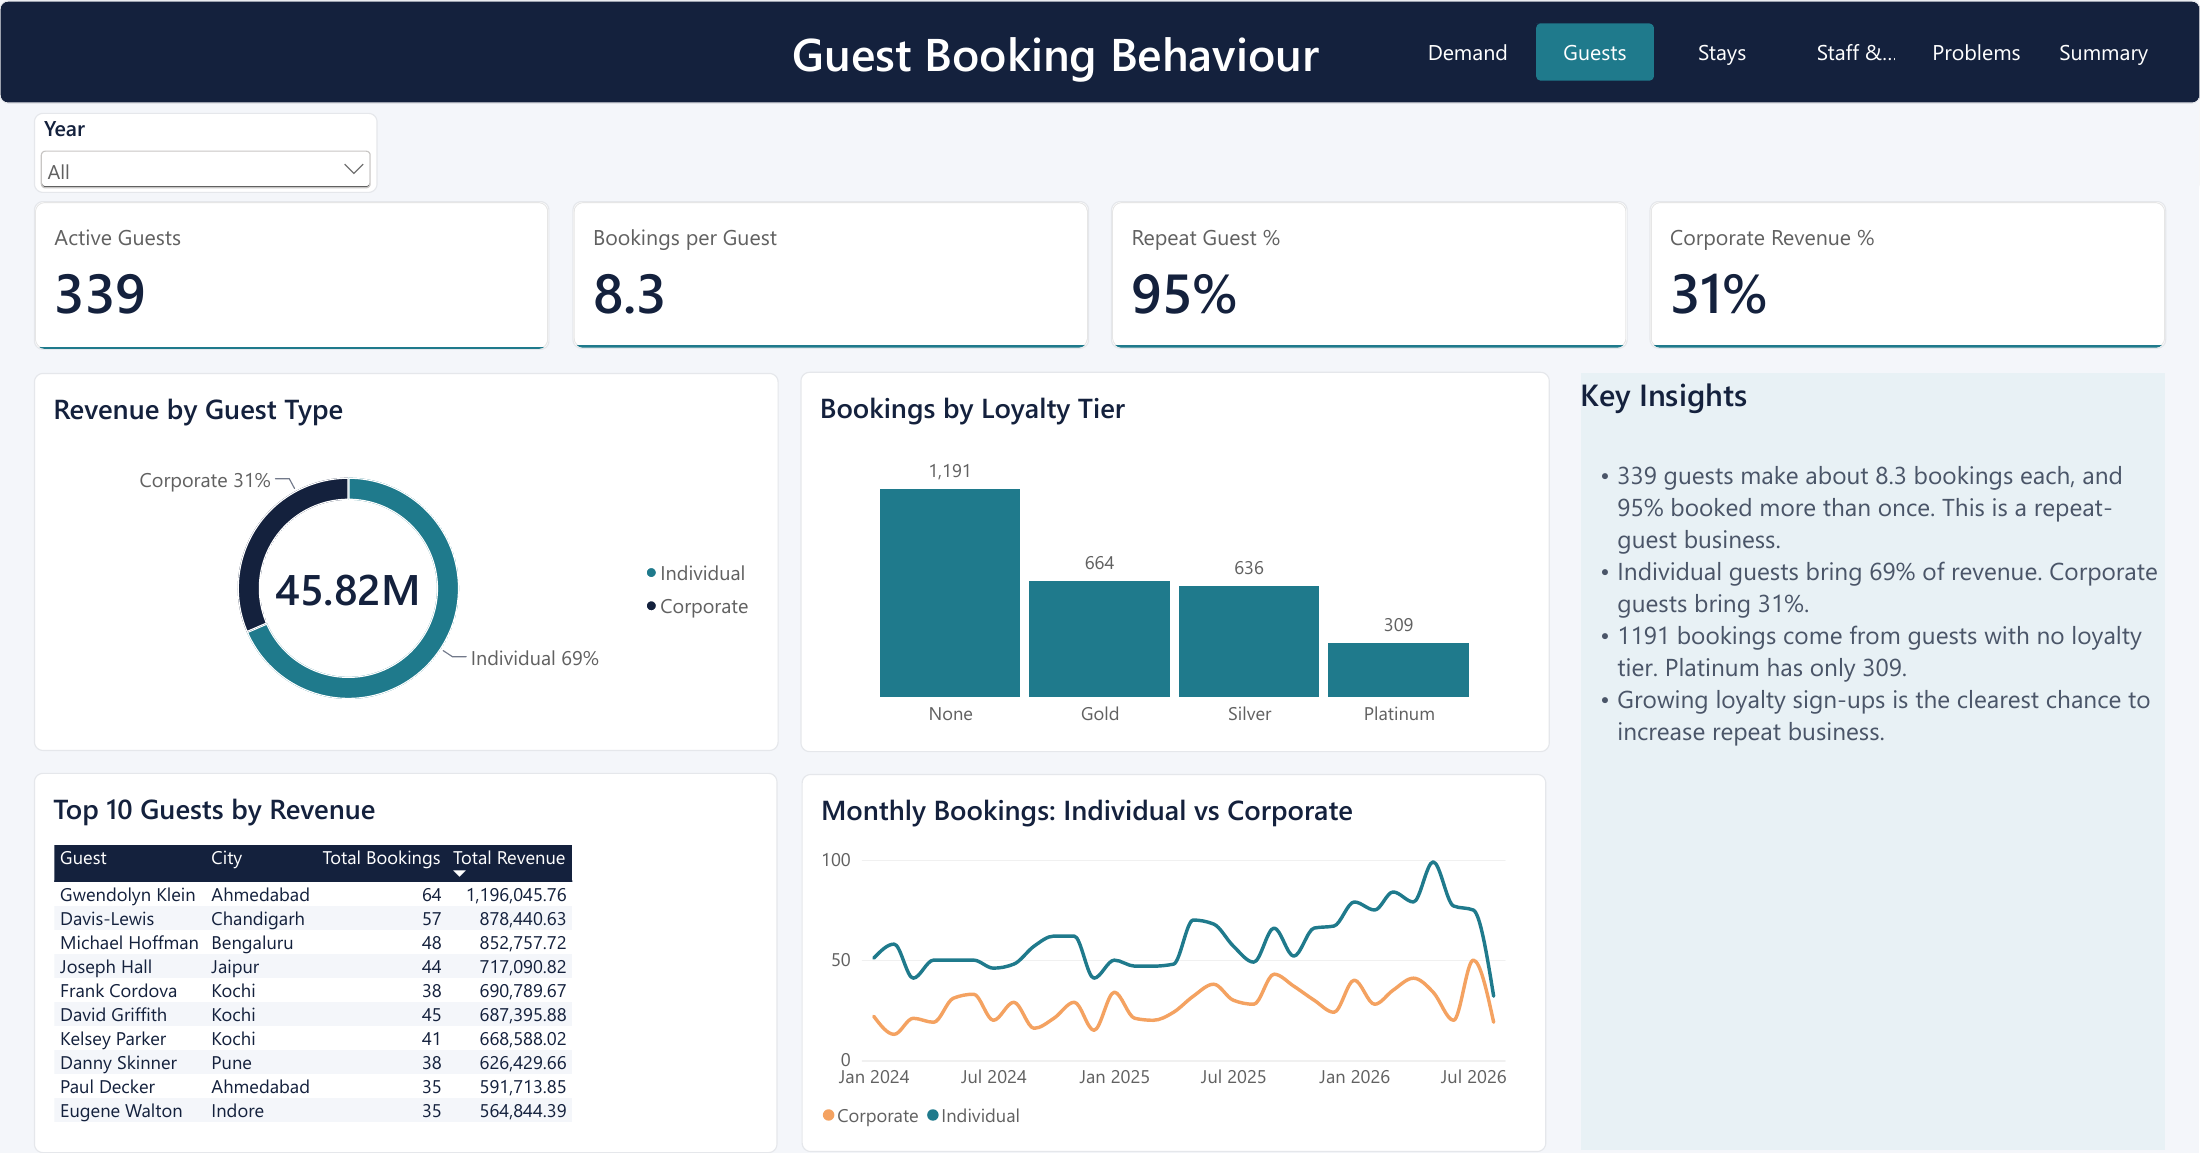

What the dashboard file says about the page in this screenshot:
{"tool":"powerbi","page":{"name":"Guests","canvas":[1920,1080],"ordinal":1},"visuals":[{"type":"shape","box":[0,0,1920.7,90],"z":0},{"type":"textbox","title":"Guest Booking Behaviour","box":[31,19.1,1782.3,52.5],"z":1000},{"type":"pageNavigator","box":[1230,20,660,50],"z":2000},{"type":"cardVisual","fields":{"Data":["_Measures.Active Guests"]},"box":[30,175,450,130],"z":3000},{"type":"cardVisual","fields":{"Data":["_Measures.Bookings per Guest"]},"box":[500,175,450.9,128.8],"z":4000},{"type":"cardVisual","fields":{"Data":["_Measures.Repeat Guest %"]},"box":[970,175,450.9,128.8],"z":5000},{"type":"cardVisual","fields":{"Data":["_Measures.Corporate Revenue %"]},"box":[1440,175,450.9,128.8],"z":6000},{"type":"donutChart","title":"Revenue by Guest Type","fields":{"Category":["guests.guest_type"],"Y":["_Measures.Total Revenue"]},"box":[30,325,650,330],"z":7000},{"type":"clusteredColumnChart","title":"Bookings by Loyalty Tier","fields":{"Category":["guests.loyalty_tier"],"Y":["_Measures.Total Bookings"]},"box":[699.1,324.5,653.7,331.6],"z":8000},{"type":"tableEx","title":"Top 10 Guests by Revenue","fields":{"Values":["guests.guest_name","guests.city","_Measures.Total Bookings","_Measures.Total Revenue"]},"box":[29.9,673.8,648.9,331.9],"z":9000},{"type":"lineChart","title":"Monthly Bookings: Individual vs Corporate","fields":{"Category":["date_table.Month Start"],"Series":["guests.guest_type"],"Y":["_Measures.Total Bookings"]},"box":[700,675,650,330],"z":10000},{"type":"slicer","fields":{"Values":["date_table.Year"]},"box":[30,98,300,70],"z":11000},{"type":"textbox","title":"Key Insights","box":[1380,325,510,678],"z":12000}]}

Visuals, with their boxes on the page's 1920x1080 design canvas (x1, y1, x2, y2). These are canvas units, not pixel positions in the 2200x1153 screenshot, which may show the page scaled, cropped or inside an application window:
shape: [x1=0, y1=0, x2=1921, y2=90]
"Guest Booking Behaviour" textbox: [x1=31, y1=19, x2=1813, y2=72]
pageNavigator: [x1=1230, y1=20, x2=1890, y2=70]
cardVisual - _Measures.Active Guests: [x1=30, y1=175, x2=480, y2=305]
cardVisual - _Measures.Bookings per Guest: [x1=500, y1=175, x2=951, y2=304]
cardVisual - _Measures.Repeat Guest %: [x1=970, y1=175, x2=1421, y2=304]
cardVisual - _Measures.Corporate Revenue %: [x1=1440, y1=175, x2=1891, y2=304]
"Revenue by Guest Type" donutChart: [x1=30, y1=325, x2=680, y2=655]
"Bookings by Loyalty Tier" clusteredColumnChart: [x1=699, y1=324, x2=1353, y2=656]
"Top 10 Guests by Revenue" tableEx: [x1=30, y1=674, x2=679, y2=1006]
"Monthly Bookings: Individual vs Corporate" lineChart: [x1=700, y1=675, x2=1350, y2=1005]
slicer - date_table.Year: [x1=30, y1=98, x2=330, y2=168]
"Key Insights" textbox: [x1=1380, y1=325, x2=1890, y2=1003]
